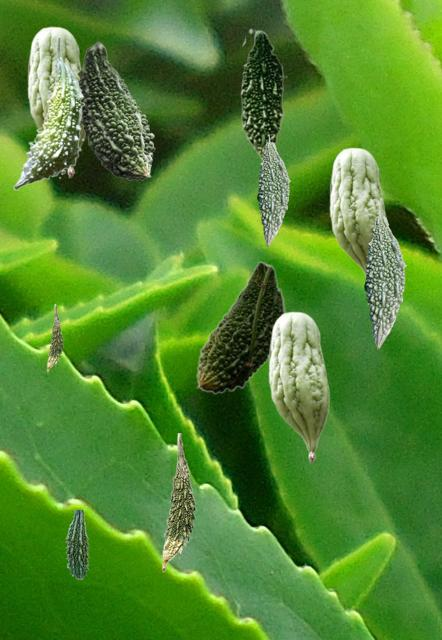ampalaya: (196, 261, 285, 393), (13, 38, 84, 189), (77, 41, 154, 179), (268, 311, 329, 462), (27, 26, 84, 177), (329, 147, 387, 276), (240, 28, 286, 160), (364, 203, 405, 348), (162, 433, 195, 571), (257, 132, 289, 245), (65, 510, 88, 578), (47, 304, 62, 372)
